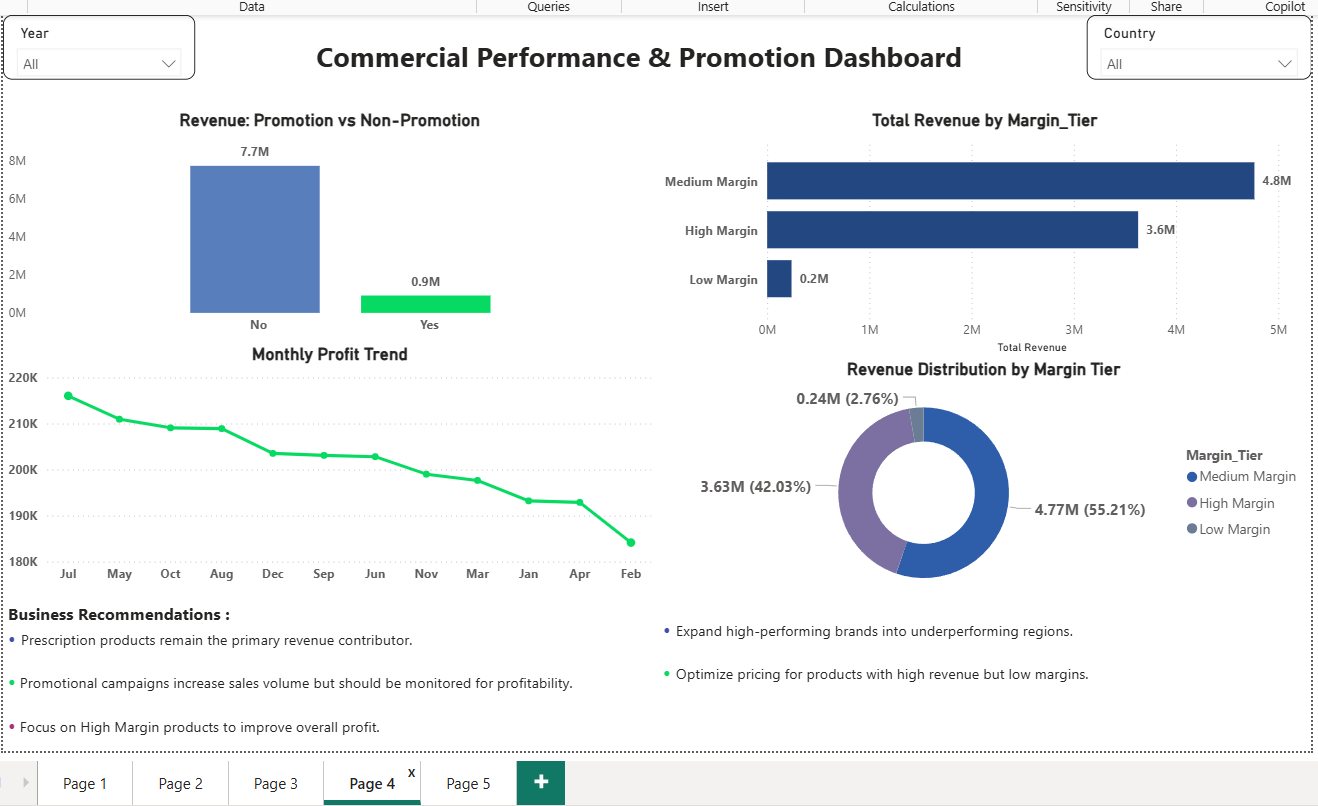

Layout of this report page (visuals, bound fields, positions):
{"tool":"powerbi","page":{"name":"Page 4","canvas":[1280,720],"ordinal":3},"visuals":[{"type":"textbox","box":[196.9,0,851.1,92.9],"z":0},{"type":"clusteredColumnChart","title":"Revenue: Promotion vs Non-Promotion","fields":{"Category":["FactSales_Final.PromoFlag"],"Y":["Measures_Table.Total Revenue"]},"box":[0,92.9,639.5,228.7],"z":1000},{"type":"clusteredBarChart","fields":{"Category":["FactSales_Final.Margin_Tier"],"Y":["Measures_Table.Total Revenue"]},"box":[640.8,92.9,639.5,243.3],"z":2000},{"type":"lineChart","title":"Monthly Profit Trend","fields":{"Category":["DimDate_Final.Month_Name"],"Y":["Measures_Table.Total Profit"]},"box":[0,321.6,639.5,243.3],"z":3000},{"type":"donutChart","title":"Revenue Distribution by Margin Tier","fields":{"Category":["FactSales_Final.Margin_Tier"],"Y":["Measures_Table.Total Revenue"]},"box":[639.5,336.3,639.5,243.3],"z":4000},{"type":"slicer","fields":{"Values":["DimDate_Final.Year"]},"box":[0,0,188.3,63.6],"z":5000},{"type":"slicer","fields":{"Values":["DimPharmacy_Final.Country"]},"box":[1060.2,0,220.1,63.6],"z":6000},{"type":"textbox","box":[0,569.8,640.8,150.4],"z":7000},{"type":"textbox","box":[640.8,564.9,638.3,155.3],"z":8000}]}

Visuals, with their boxes on the page's 1280x720 design canvas (x1, y1, x2, y2). These are canvas units, not pixel positions in the 1318x806 screenshot, which may show the page scaled, cropped or inside an application window:
textbox: 197,0,1048,93
"Revenue: Promotion vs Non-Promotion" clusteredColumnChart: 0,93,640,322
clusteredBarChart - FactSales_Final.Margin_Tier x Measures_Table.Total Revenue: 641,93,1280,336
"Monthly Profit Trend" lineChart: 0,322,640,565
"Revenue Distribution by Margin Tier" donutChart: 640,336,1279,580
slicer - DimDate_Final.Year: 0,0,188,64
slicer - DimPharmacy_Final.Country: 1060,0,1280,64
textbox: 0,570,641,720
textbox: 641,565,1279,720
